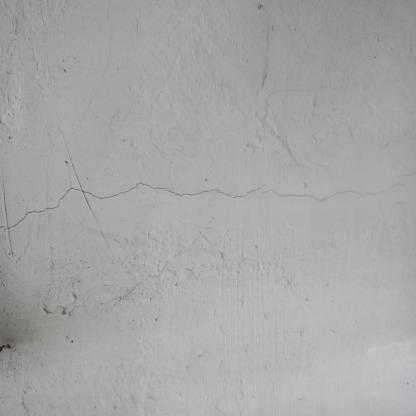crack: (0, 180, 266, 230), (264, 181, 406, 205)
